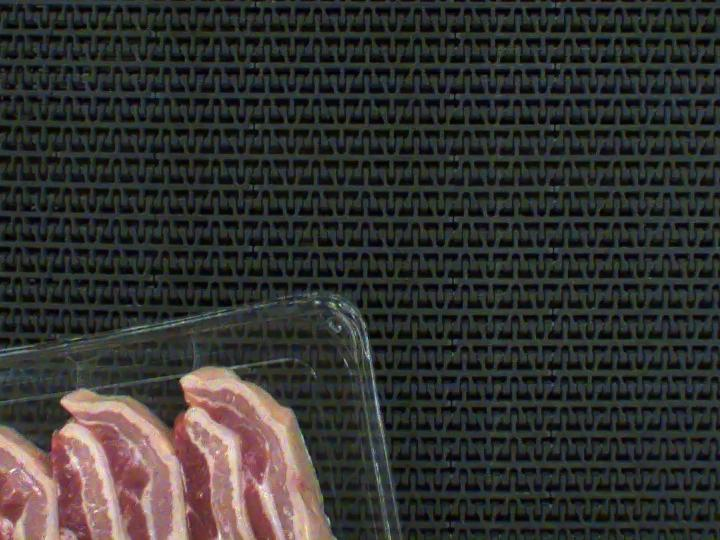packaging-error: (37, 300, 220, 425)
